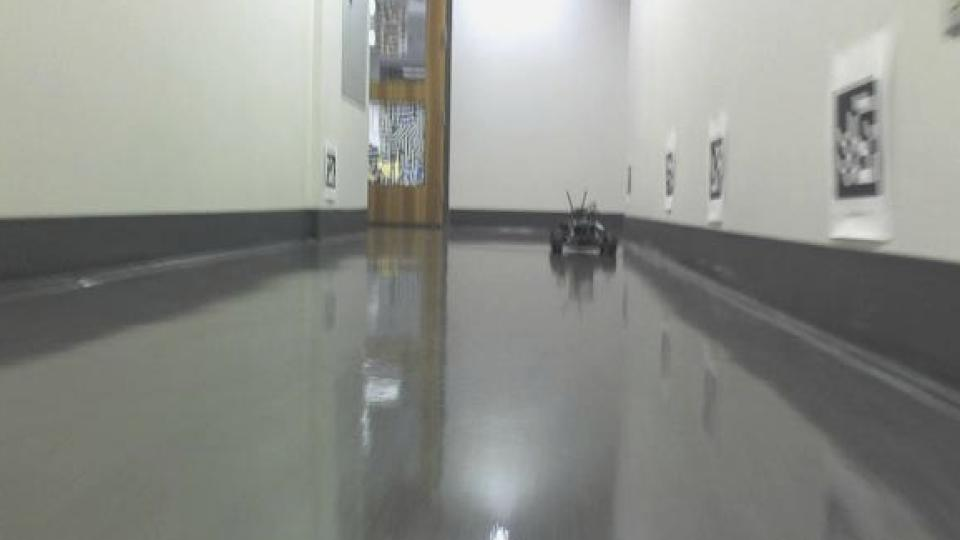car: (548, 187, 620, 263)
